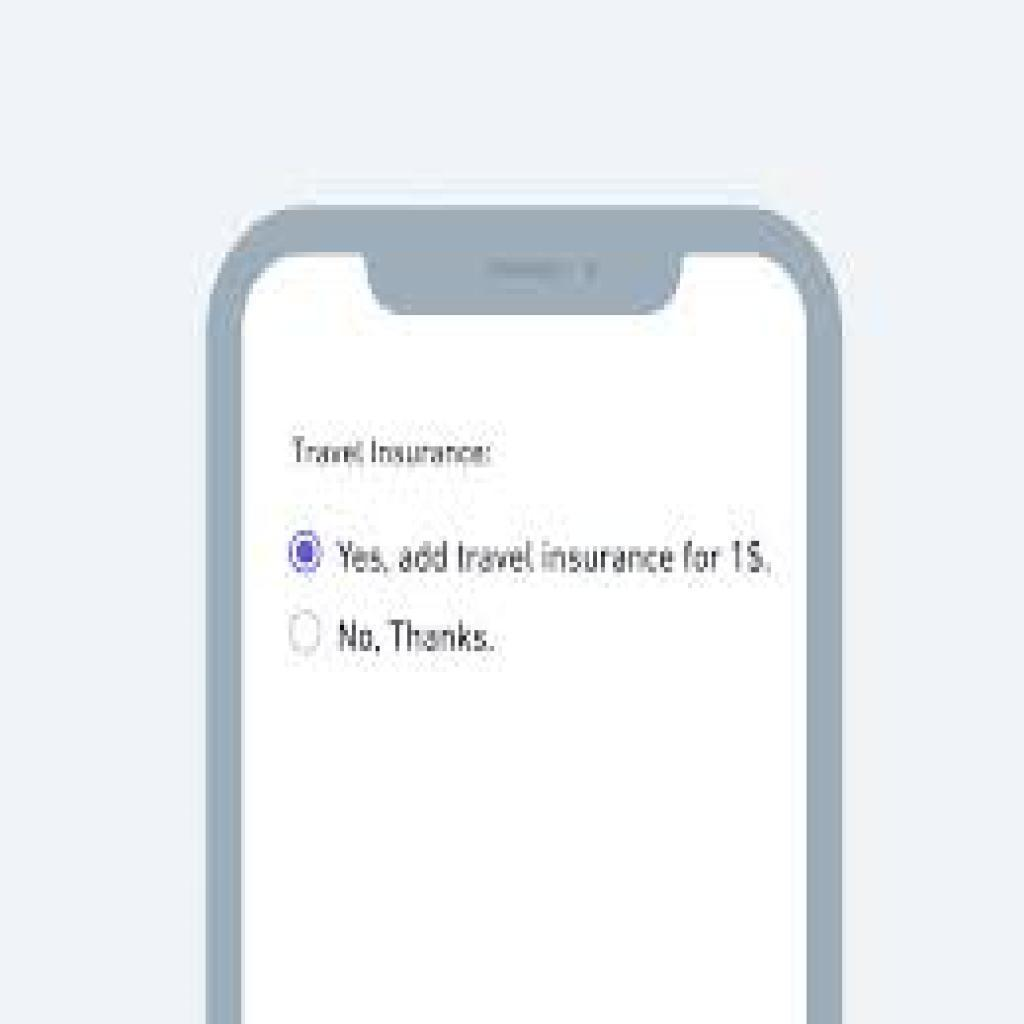radio: (281, 607, 328, 669), (289, 522, 331, 586)
